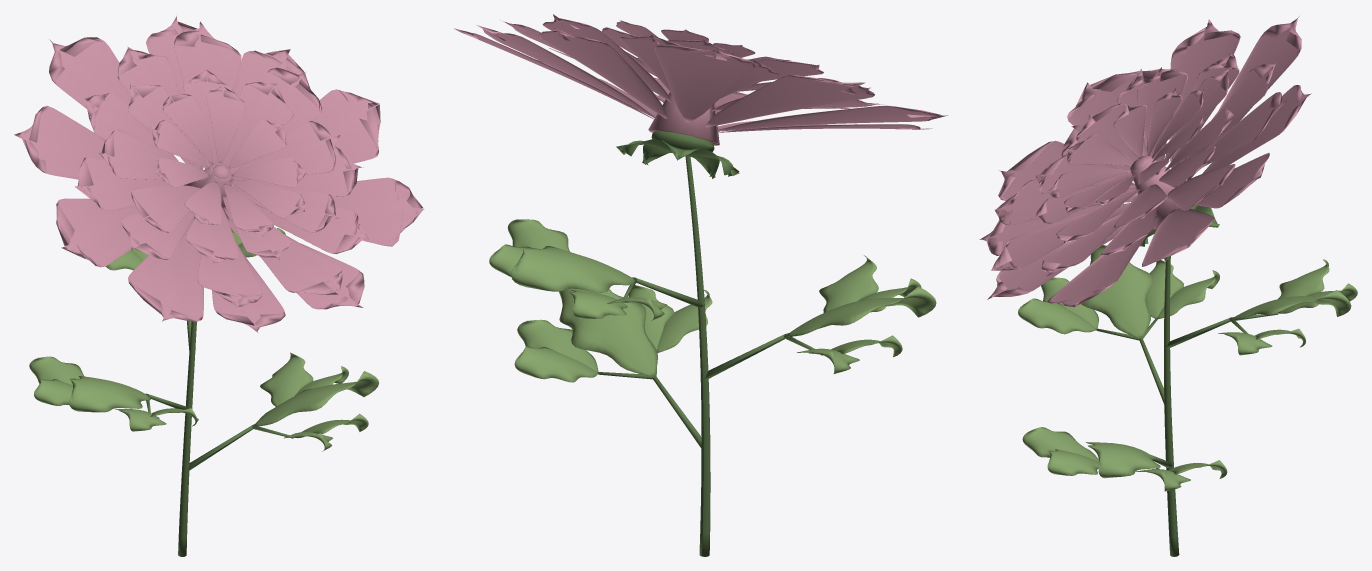
File: peony-rare-v2.glb
3 views of the same model, side by side, from view 1: azimuth 30°, elevation 25°; view 2: azimuth 150°, elevation 25°; view 3: azimuth 270°, elevation 25° (orthographic). The views are drawn at different scales.
Parts seen in each view (by area): view 1: peony-rare-v2-petal, peony-rare-v2-leaf, peony-rare-v2-stem; view 2: peony-rare-v2-petal, peony-rare-v2-leaf, peony-rare-v2-stem; view 3: peony-rare-v2-petal, peony-rare-v2-leaf, peony-rare-v2-stem.
Part boxes in pixels (x1=…): peony-rare-v2-petal: x1=14, y1=16, x2=424, y2=332; peony-rare-v2-leaf: x1=29, y1=228, x2=378, y2=451; peony-rare-v2-stem: x1=145, y1=229, x2=293, y2=556; peony-rare-v2-petal: x1=454, y1=14, x2=948, y2=145; peony-rare-v2-leaf: x1=489, y1=219, x2=936, y2=382; peony-rare-v2-stem: x1=598, y1=131, x2=829, y2=556; peony-rare-v2-petal: x1=979, y1=16, x2=1311, y2=307; peony-rare-v2-leaf: x1=1018, y1=245, x2=1357, y2=491; peony-rare-v2-stem: x1=1096, y1=205, x2=1278, y2=556.
Bounding box in the file's own units: 1.43 × 1.82 × 1.24.
